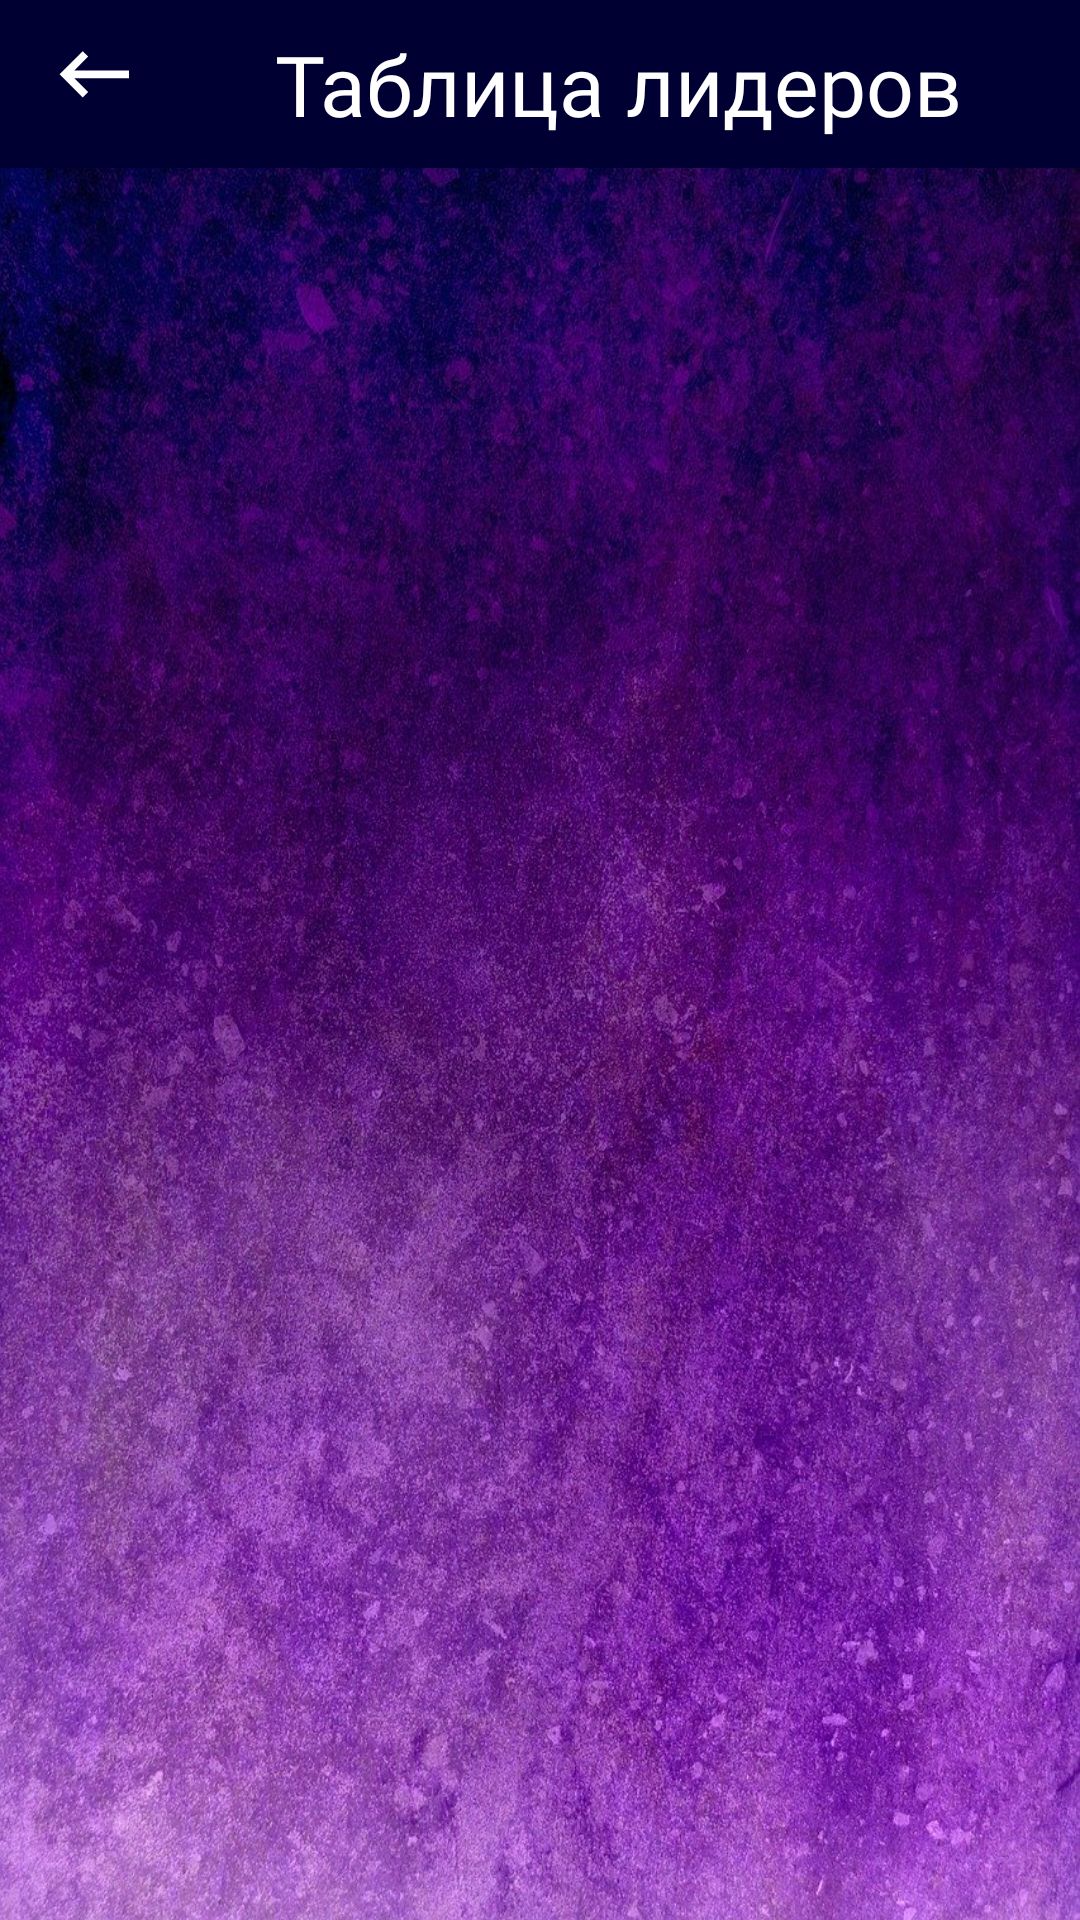

Icons on this 1080*1920 Android screen, each with its box as (x1, y1, x2, y2):
back button: (59, 51, 129, 98)
